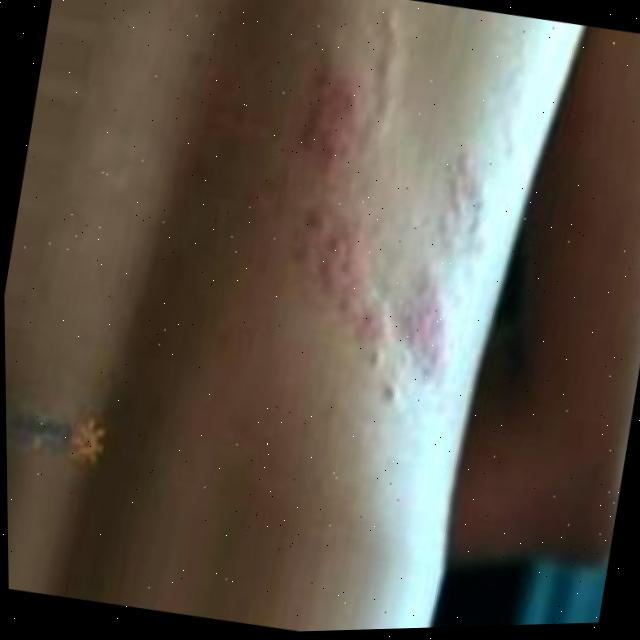Shingles: (260, 70, 519, 393)
